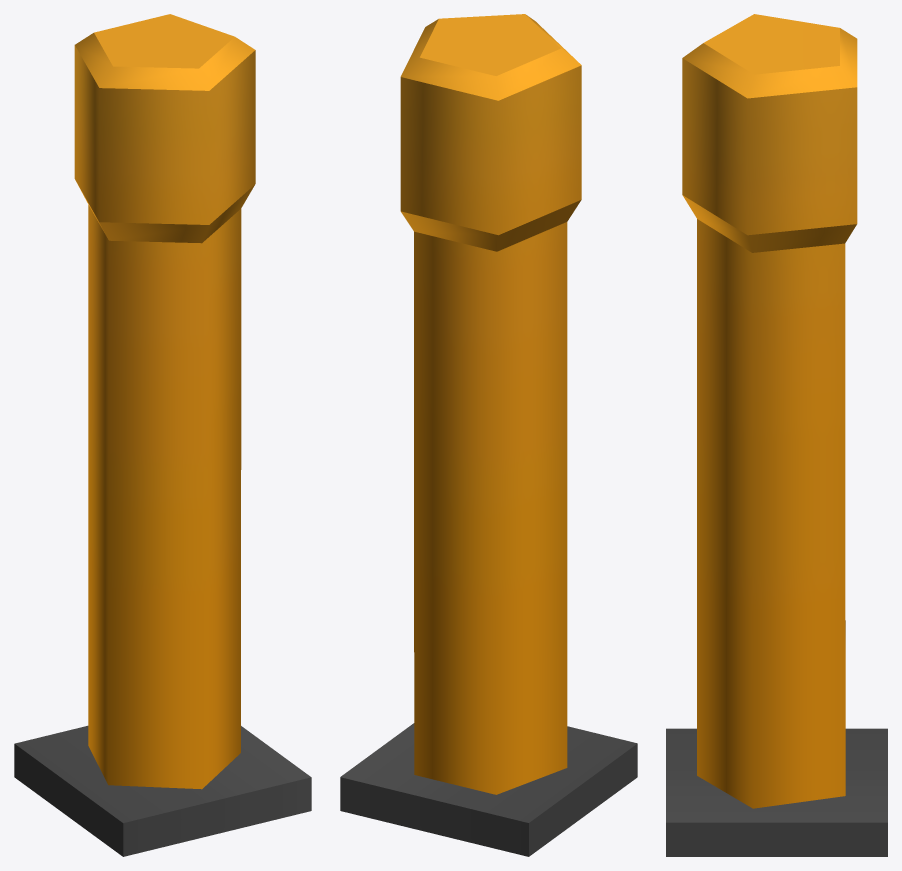
The model's file is Bollards_4_B.fbx.
3 views of the same model, side by side, from view 1: azimuth 30°, elevation 25°; view 2: azimuth 150°, elevation 25°; view 3: azimuth 270°, elevation 25° (orthographic).
Parts seen in each view (by area): view 1: Bollards_4_B; view 2: Bollards_4_B; view 3: Bollards_4_B.
Boxes of the visible parts, x1,y1,x2,y2 form: Bollards_4_B: [14, 14, 311, 856]; Bollards_4_B: [340, 14, 637, 856]; Bollards_4_B: [666, 14, 887, 856].
Bounding box in the file's own units: 15.3 × 58.39 × 15.3.
